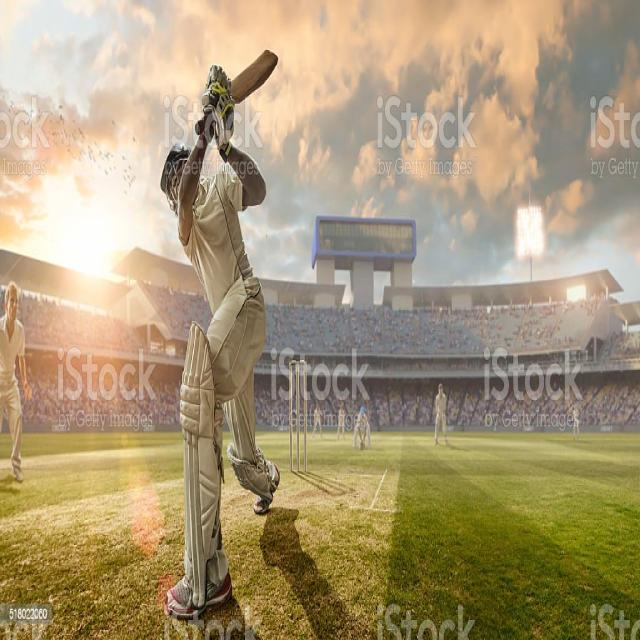stump: (288, 361, 306, 475)
